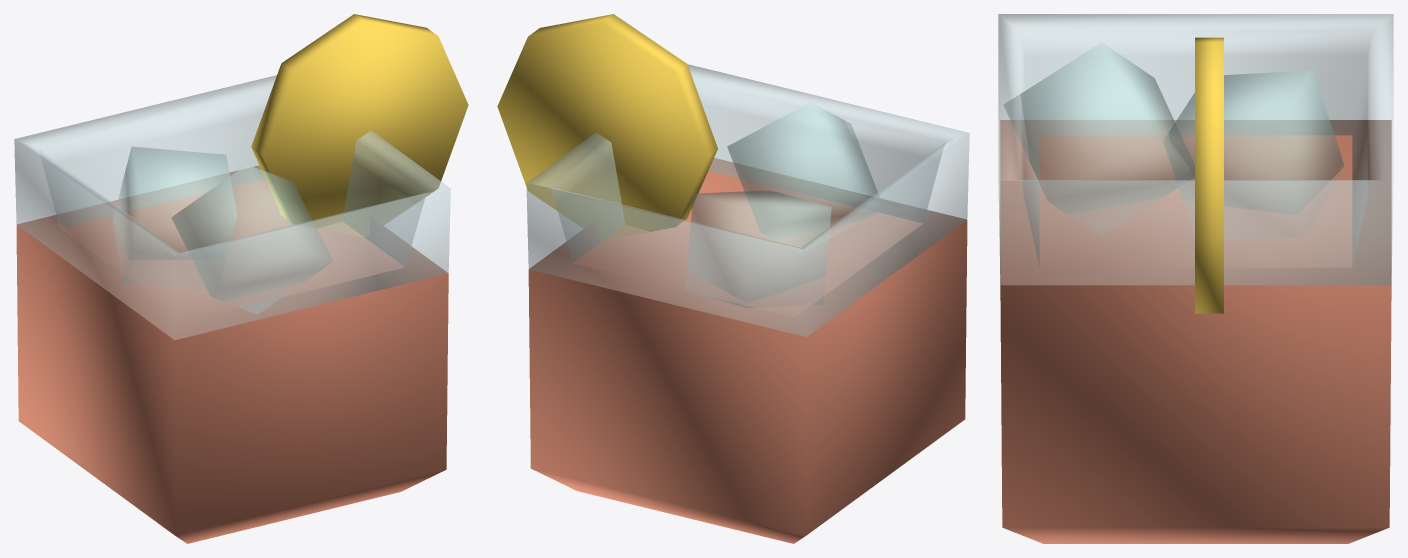
Rendered from glass_01.glb.
The picture shows the model from 3 angles, left to right: view 1: azimuth 30°, elevation 25°; view 2: azimuth 150°, elevation 25°; view 3: azimuth 270°, elevation 25°; orthographic projection. The views are drawn at different scales.
Visible parts, largest first — view 1: Glass01; view 2: Glass01; view 3: Glass01.
Boxes of the visible parts, x1=… form: Glass01: x1=14, y1=14, x2=468, y2=543; Glass01: x1=497, y1=14, x2=969, y2=543; Glass01: x1=998, y1=14, x2=1393, y2=543.
Bounding box in the file's own units: 0.1296 × 0.1385 × 0.0959.
Materials: 2 (2 with a texture image).
